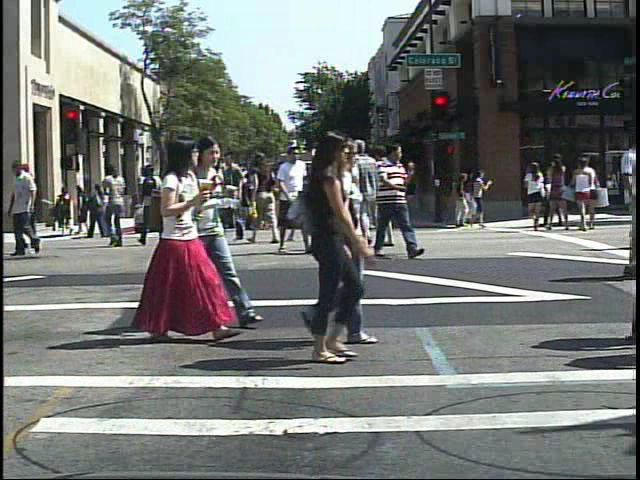person: (281, 129, 368, 368), (288, 137, 382, 348), (136, 129, 217, 344), (192, 130, 245, 330), (375, 136, 422, 261), (360, 137, 406, 259), (272, 138, 314, 259), (352, 137, 393, 251), (374, 141, 413, 250), (611, 132, 638, 284), (134, 159, 174, 252), (248, 147, 282, 245), (284, 147, 316, 248), (99, 161, 135, 249), (522, 156, 550, 236), (270, 165, 291, 234), (59, 183, 79, 233)
